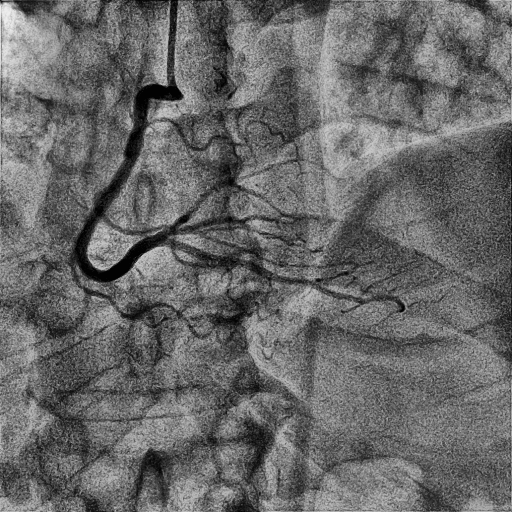pda: (163, 238, 407, 314)
rca: (74, 84, 184, 283)
